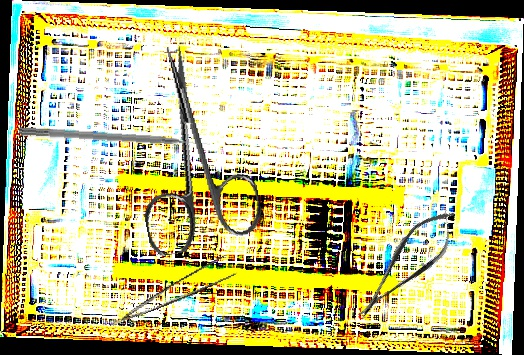Iris Scissors: (113, 35, 267, 259)
Micro Scissor: (342, 197, 471, 331)
Pusher: (18, 126, 211, 151)
Tissue Forceps: (104, 253, 240, 326)
